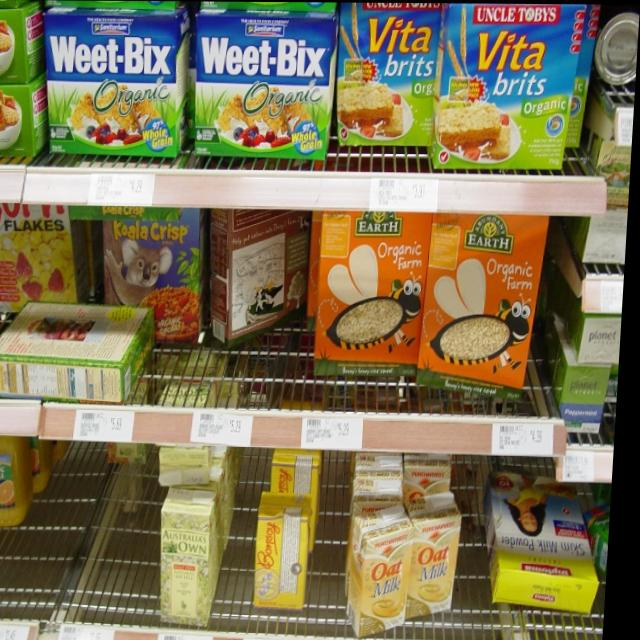q7: (186, 7, 338, 174), (40, 0, 195, 156)
